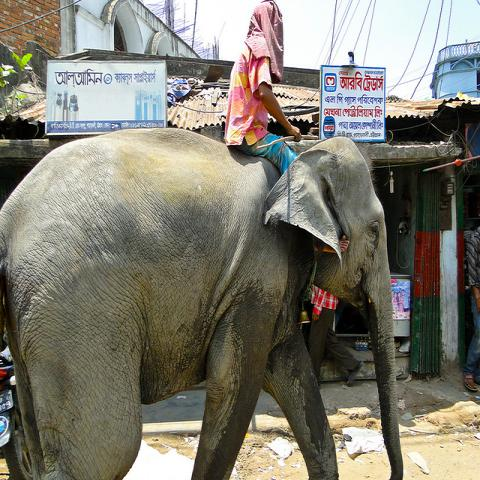motorcycle: (1, 347, 33, 479)
